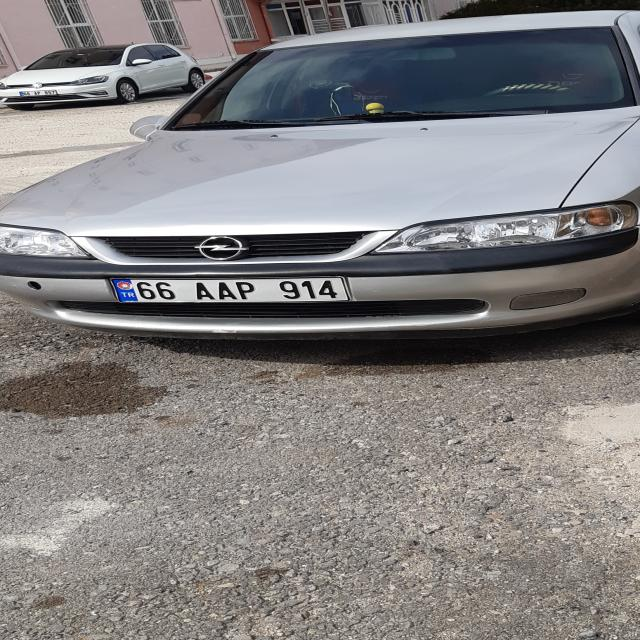plate: (109, 276, 349, 303)
